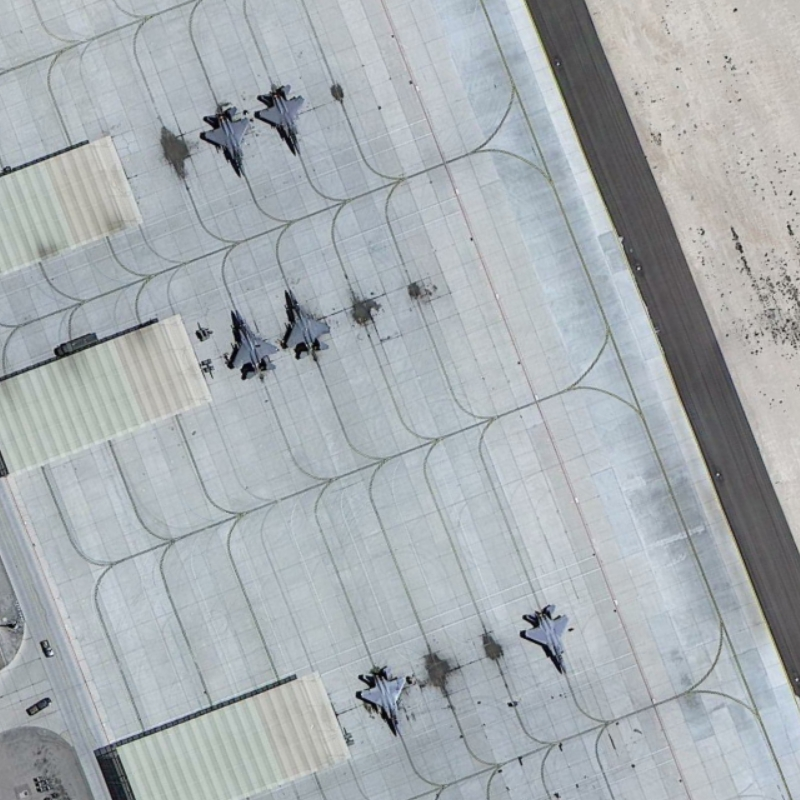A13: (194, 95, 261, 181), (512, 596, 581, 679), (215, 301, 283, 384), (350, 655, 416, 740), (275, 278, 337, 364), (253, 79, 315, 156)
